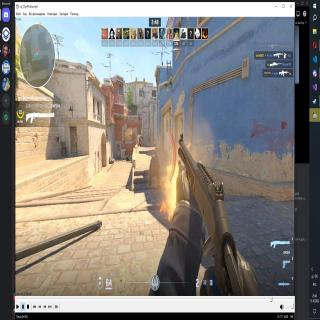CT-Body: (148, 148, 162, 188)
CT-Head: (154, 150, 158, 160)
T-Body: (126, 152, 130, 162)
T-Head: (126, 152, 130, 156)
